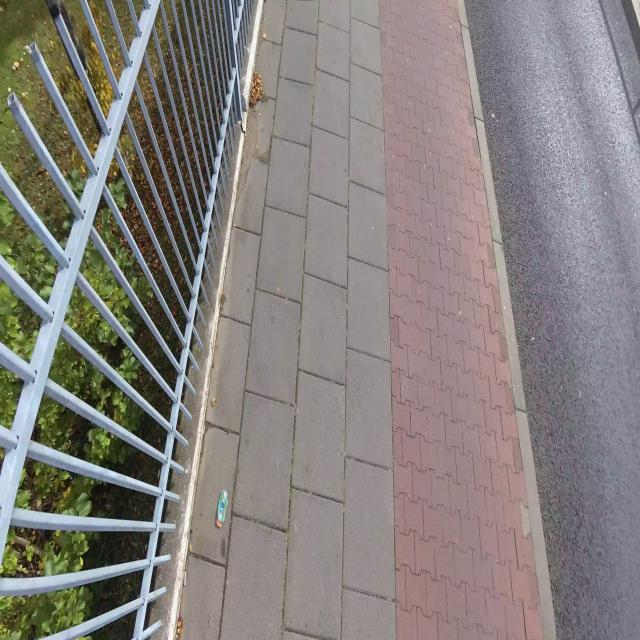rubbish: (216, 489, 228, 522), (183, 570, 186, 586)
